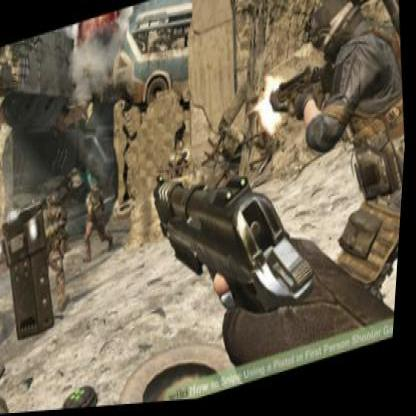pistol: (141, 129, 330, 355)
